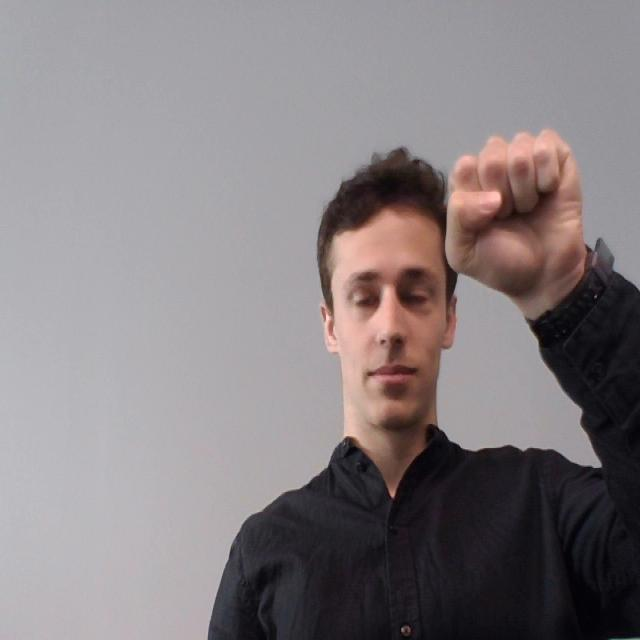stop: (435, 136, 589, 298)
